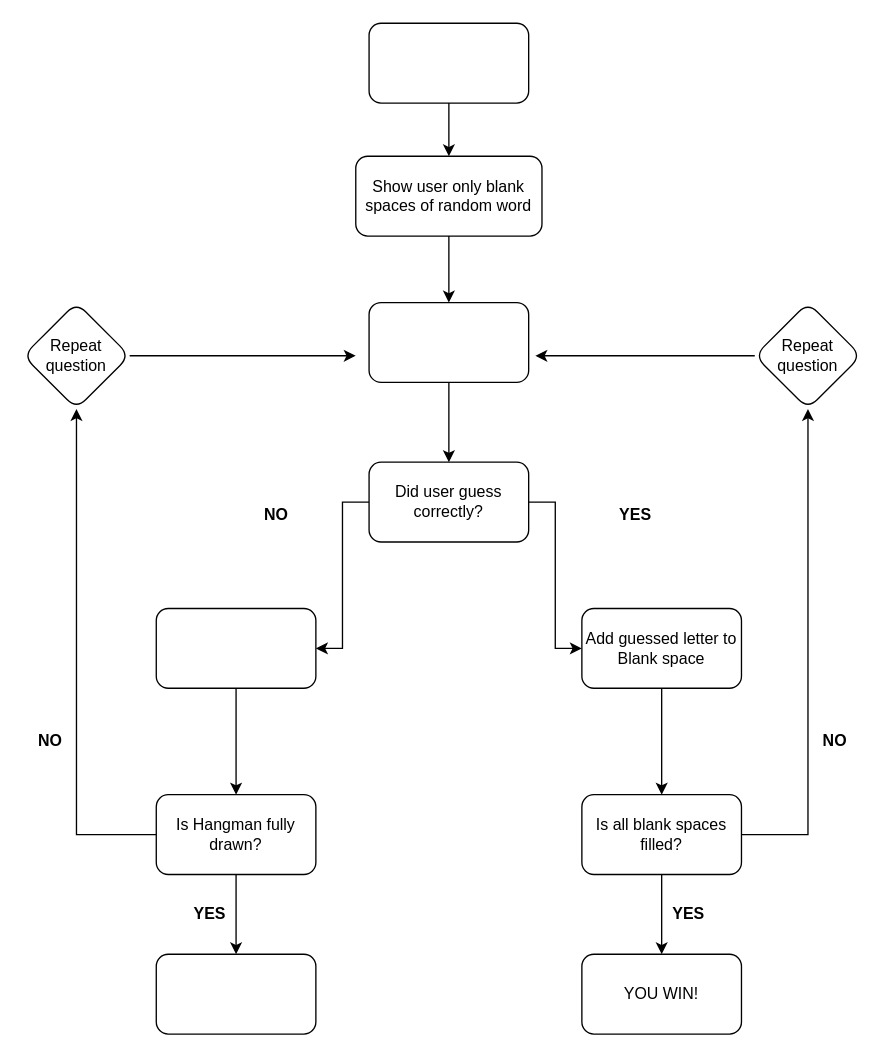
Image size: 884x1057. Some labels were removed from this diagram. Each missing label, with the centre of its shape:
"Ask user to guess a letter" belongs at pixel 448 341.
"Draw Hangman" belongs at pixel 235 647.
"Select a random word." belongs at pixel 448 62.
"YOU LOSE!" belongs at pixel 235 993.
